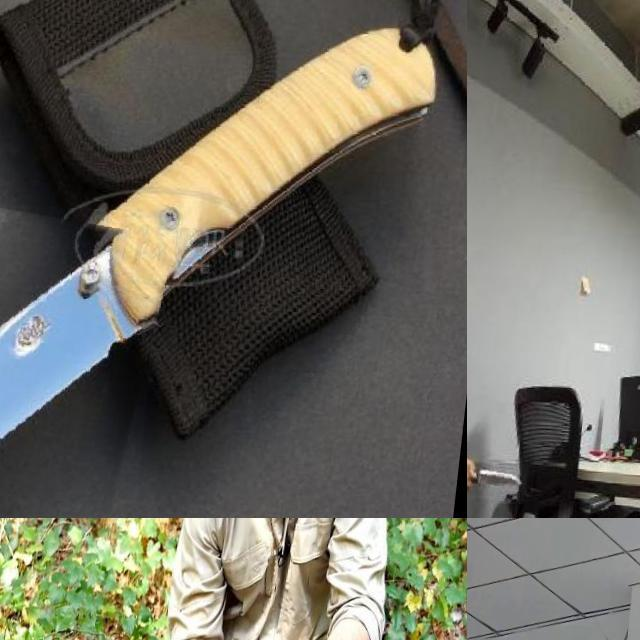-: (0, 197, 174, 518), (467, 451, 547, 497)
